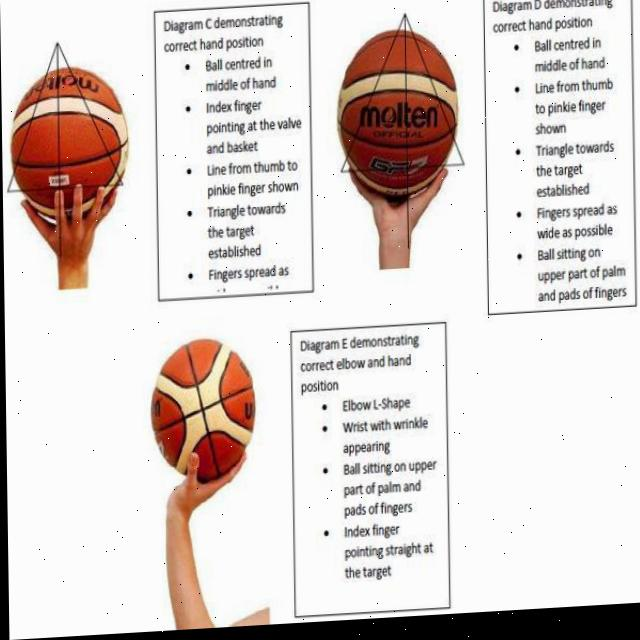basketball: (338, 25, 460, 199), (11, 66, 130, 223), (151, 336, 256, 486)
